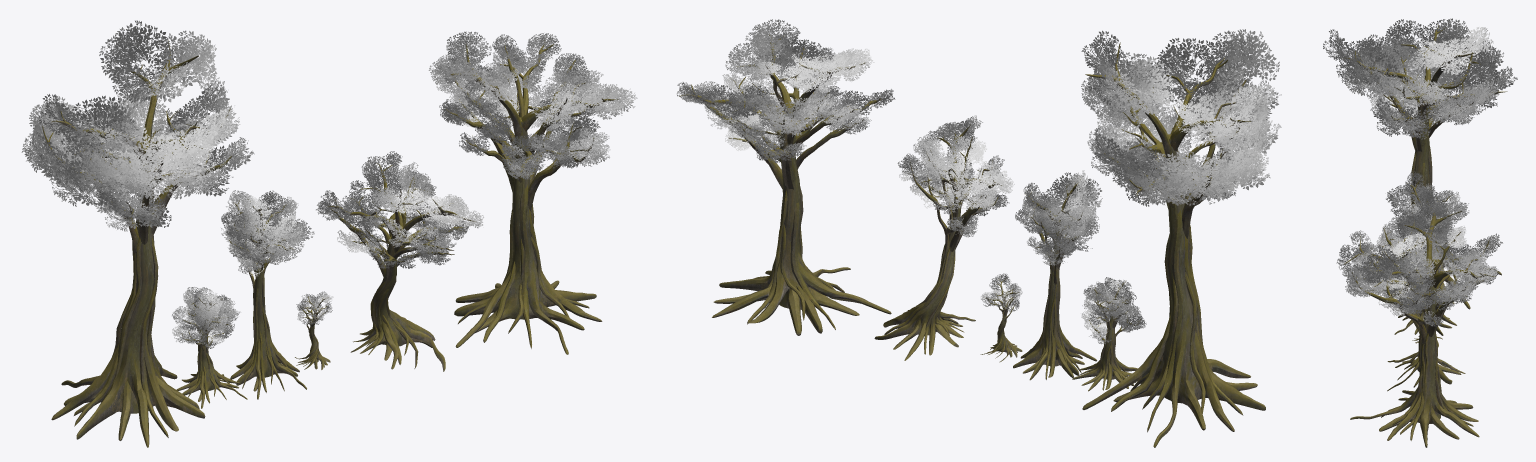
Rendered from Mystical_Trees_A.fbx.
3 views of the same model, side by side, from view 1: azimuth 30°, elevation 25°; view 2: azimuth 150°, elevation 25°; view 3: azimuth 270°, elevation 25° (orthographic). The views are drawn at different scales.
Parts seen in each view (by area): view 1: Mystical_Tree_Leaves_1A1, Mystical_Tree_Leaves_1A2, Mystical_Tree_1A1, Mystical_Tree_1A2, Mystical_Tree_Leaves_1A3, Mystical_Tree_1A3, Mystical_Tree_Leaves_1A4, Mystical_Tree_1A4, Mystical_Tree_Leaves_1A5, Mystical_Tree_1A5, Mystical_Tree_1A6, Mystical_Tree_Leaves_1A6; view 2: Mystical_Tree_Leaves_1A1, Mystical_Tree_Leaves_1A2, Mystical_Tree_1A1, Mystical_Tree_1A2, Mystical_Tree_Leaves_1A3, Mystical_Tree_1A3, Mystical_Tree_Leaves_1A4, Mystical_Tree_1A4, Mystical_Tree_Leaves_1A5, Mystical_Tree_1A5, Mystical_Tree_Leaves_1A6, Mystical_Tree_1A6; view 3: Mystical_Tree_Leaves_1A1, Mystical_Tree_Leaves_1A2, Mystical_Tree_1A2, Mystical_Tree_1A1, Mystical_Tree_Leaves_1A3, Mystical_Tree_Leaves_1A4, Mystical_Tree_1A3, Mystical_Tree_1A4.
Part boxes in pixels (x1,y1,x2,y2): Mystical_Tree_Leaves_1A1: (21,20,254,231); Mystical_Tree_Leaves_1A2: (428,31,637,179); Mystical_Tree_1A1: (42,40,231,447); Mystical_Tree_1A2: (445,40,618,354); Mystical_Tree_Leaves_1A3: (316,151,483,269); Mystical_Tree_1A3: (327,163,475,371); Mystical_Tree_Leaves_1A4: (221,190,314,276); Mystical_Tree_1A4: (229,199,306,399); Mystical_Tree_Leaves_1A5: (172,287,240,348); Mystical_Tree_1A5: (176,297,247,408); Mystical_Tree_1A6: (295,296,330,369); Mystical_Tree_Leaves_1A6: (296,291,333,324); Mystical_Tree_Leaves_1A1: (1081,29,1281,206); Mystical_Tree_Leaves_1A2: (677,19,895,163); Mystical_Tree_1A1: (1082,42,1265,447); Mystical_Tree_1A2: (679,34,891,335); Mystical_Tree_Leaves_1A3: (897,115,1014,237); Mystical_Tree_1A3: (874,124,1002,360); Mystical_Tree_Leaves_1A4: (1015,170,1102,265); Mystical_Tree_1A4: (1013,179,1096,380); Mystical_Tree_Leaves_1A5: (1081,277,1146,344); Mystical_Tree_1A5: (1072,280,1140,391); Mystical_Tree_Leaves_1A6: (981,273,1022,311); Mystical_Tree_1A6: (980,278,1022,362); Mystical_Tree_Leaves_1A1: (1323,18,1517,139); Mystical_Tree_Leaves_1A2: (1342,190,1502,326); Mystical_Tree_1A2: (1350,201,1495,447); Mystical_Tree_1A1: (1344,24,1507,309); Mystical_Tree_Leaves_1A3: (1336,216,1438,295); Mystical_Tree_Leaves_1A4: (1386,171,1460,232); Mystical_Tree_1A3: (1344,228,1465,391); Mystical_Tree_1A4: (1394,178,1456,335).
Size of what is drawn, in the model's own units: 45606 by 27833 by 18401.
